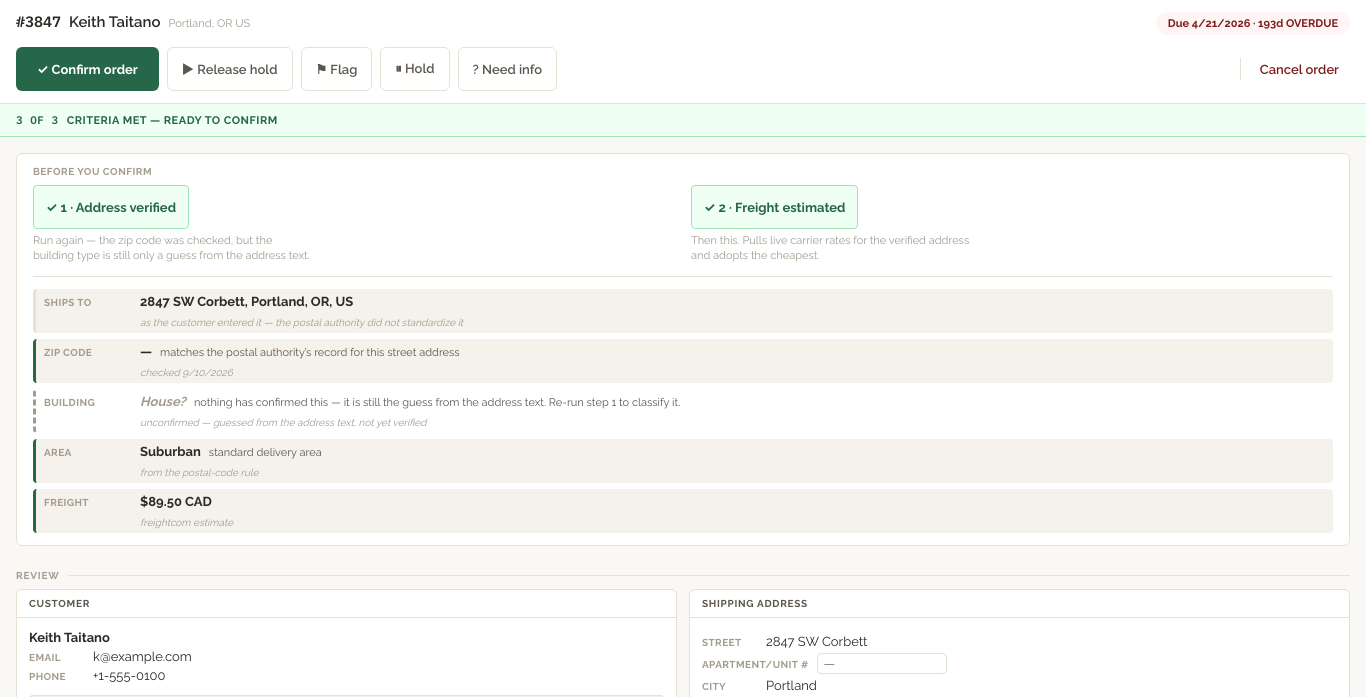
Test: Detail › Release hold › releases the hold, notes it, and says the queue row went too
Click the button "▶ Release hold". click: [230, 69]
box: [167,47,292,91]
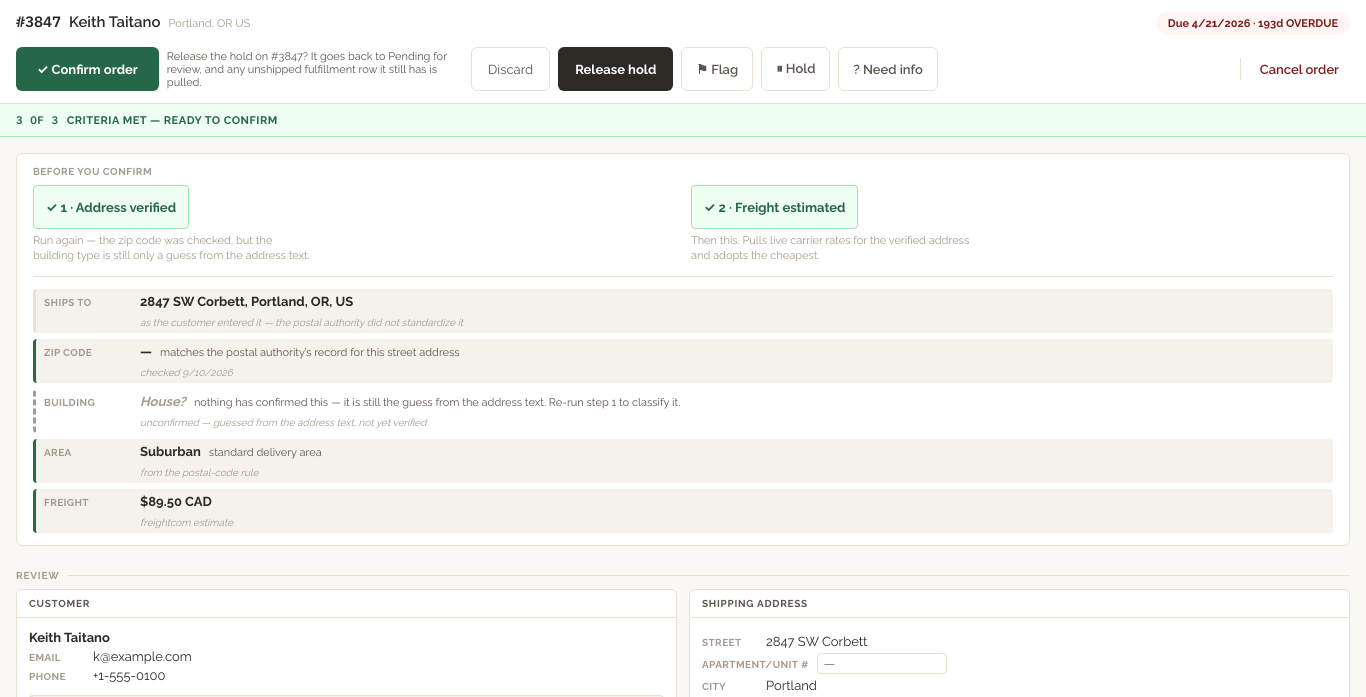
Click the button "Release hold". click: [616, 69]
box: [558,47,673,91]
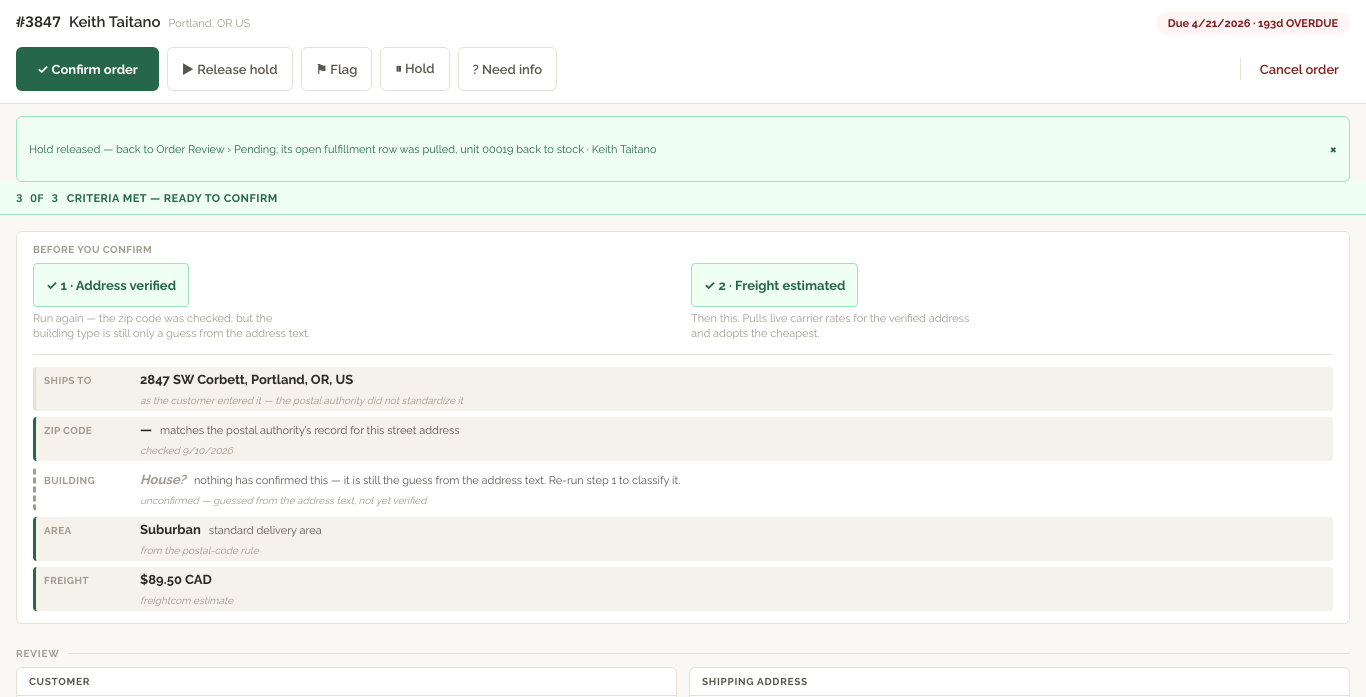
Now the text "unit 00019 back to stock" is shown, box [29,142,656,156]
